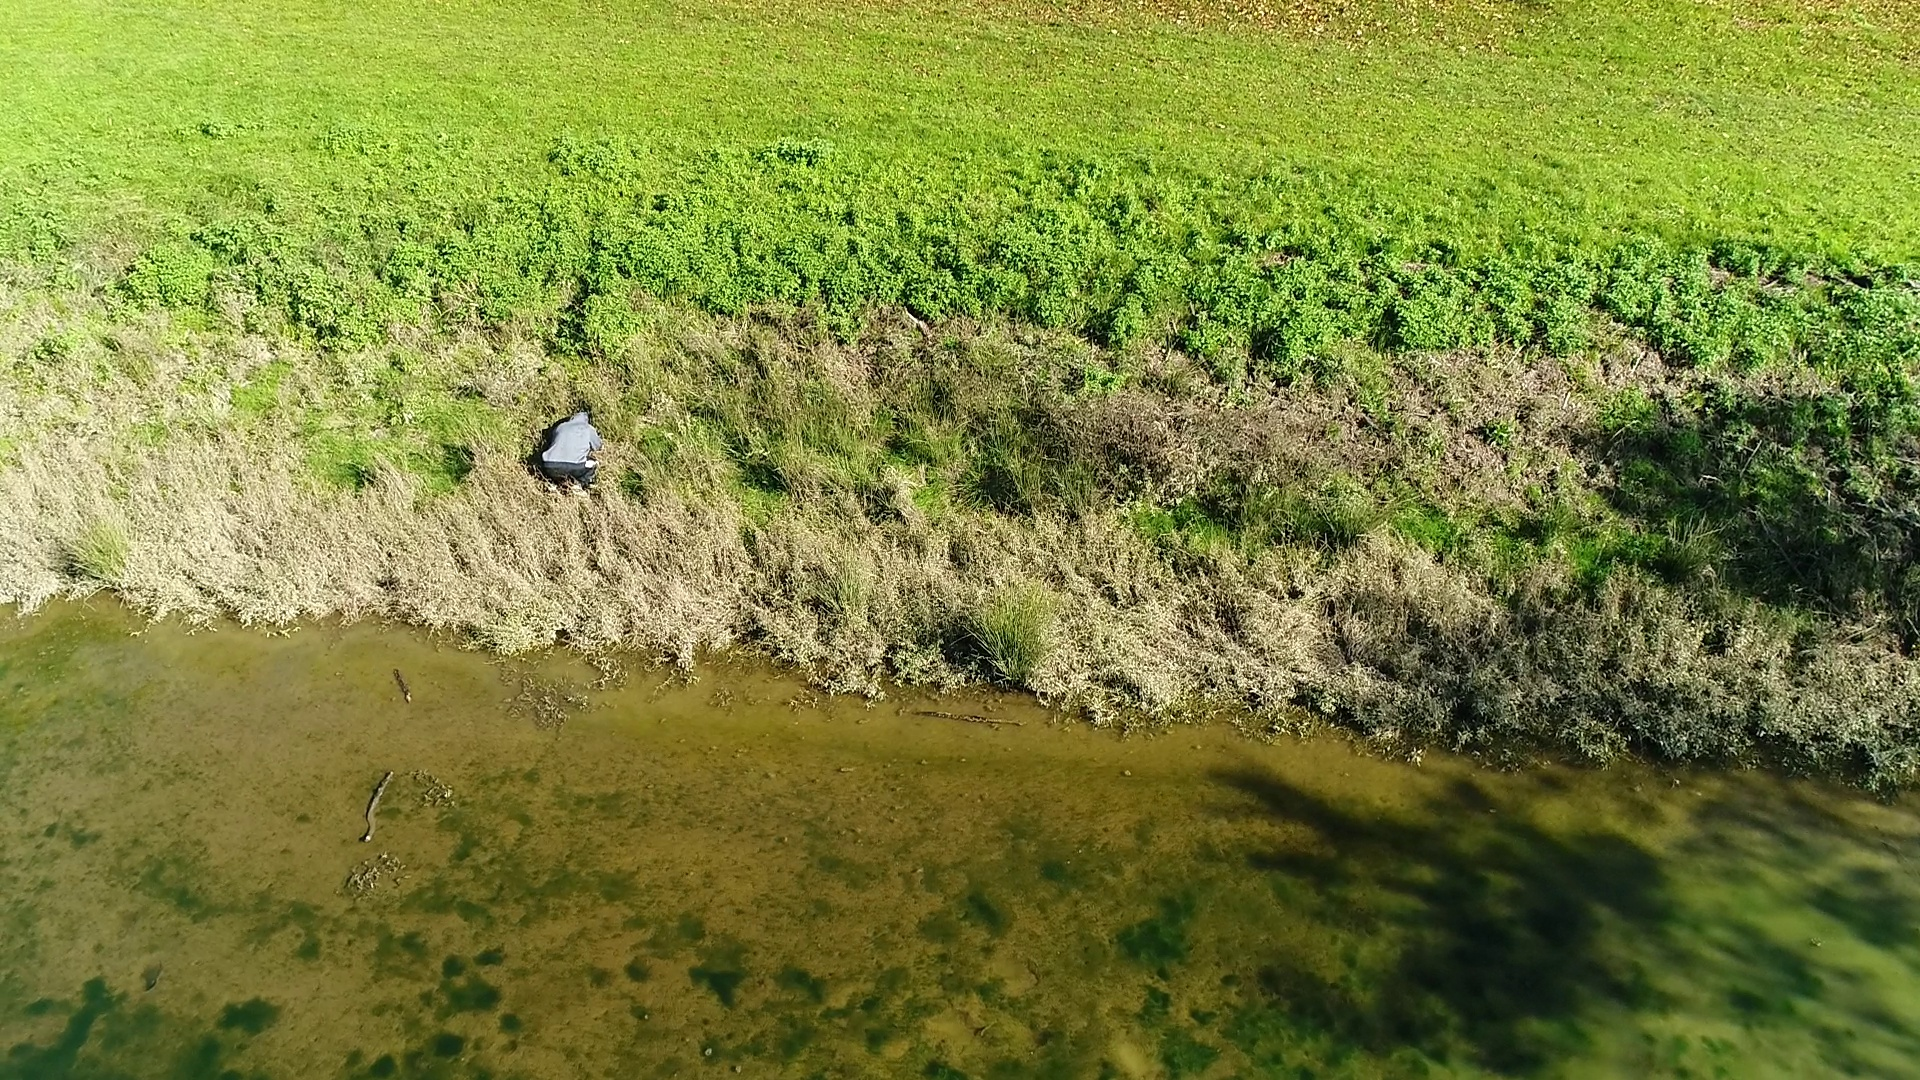not_defined: (542, 407, 604, 493)
